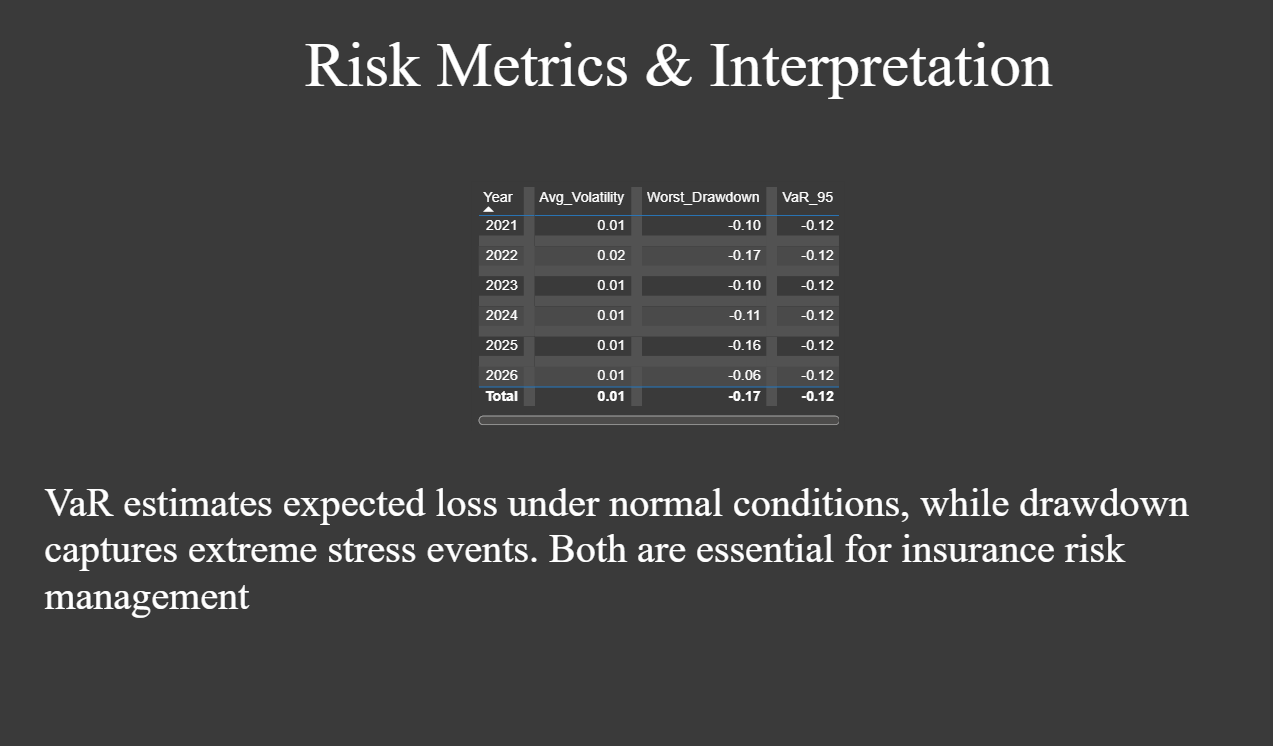

The page's visual inventory and layout, read from the dashboard file:
{"tool":"powerbi","page":{"name":"Risk Metrics & Interpretation","canvas":[1280,720],"ordinal":2},"visuals":[{"type":"tableEx","fields":{"Values":["Dim_Date.Year","Dim_Date.Avg_Volatility","Dim_Date.Worst_Drawdown","Dim_Date.VaR_95"]},"box":[429.5,119.4,354,240.1],"z":0},{"type":"textbox","box":[42.5,447.3,1192.5,138.6],"z":1}]}

Visuals, with their boxes on the page's 1280x720 design canvas (x1, y1, x2, y2). These are canvas units, not pixel positions in the 1273x746 screenshot, which may show the page scaled, cropped or inside an application window:
tableEx - Dim_Date.Year x Dim_Date.Avg_Volatility: left=430, top=119, right=784, bottom=360
textbox: left=42, top=447, right=1235, bottom=586
